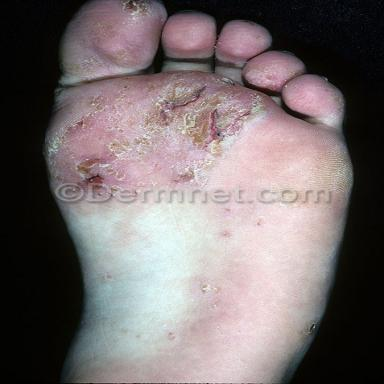eczema: (49, 72, 267, 186), (68, 48, 145, 82), (243, 51, 306, 91), (314, 75, 343, 117), (119, 0, 165, 19), (91, 23, 120, 40)
